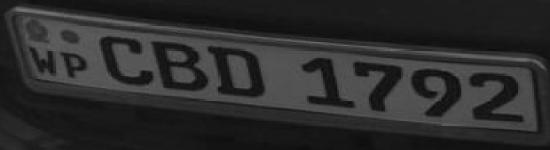1: (294, 55, 356, 111)
2: (466, 70, 528, 126)
7: (352, 56, 405, 114)
9: (407, 65, 465, 124)
B: (150, 35, 210, 94)
C: (94, 32, 156, 89)
D: (207, 42, 268, 102)
P: (61, 47, 90, 82)
W: (28, 44, 59, 76)
